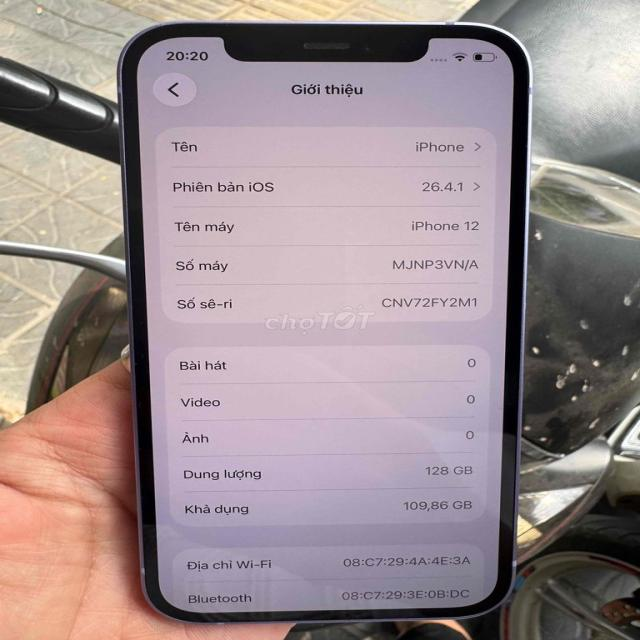gen_12_13: (107, 16, 521, 630)
